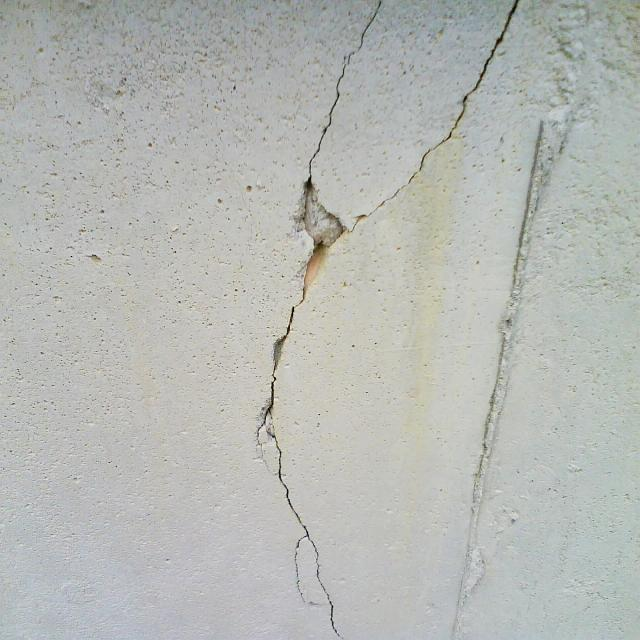Wall_Cracks: (240, 0, 543, 640)
